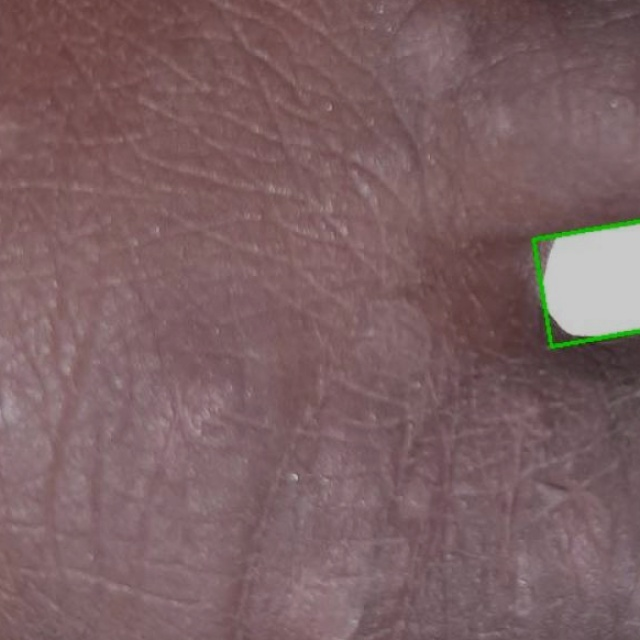Eczema: (533, 222, 639, 347)
